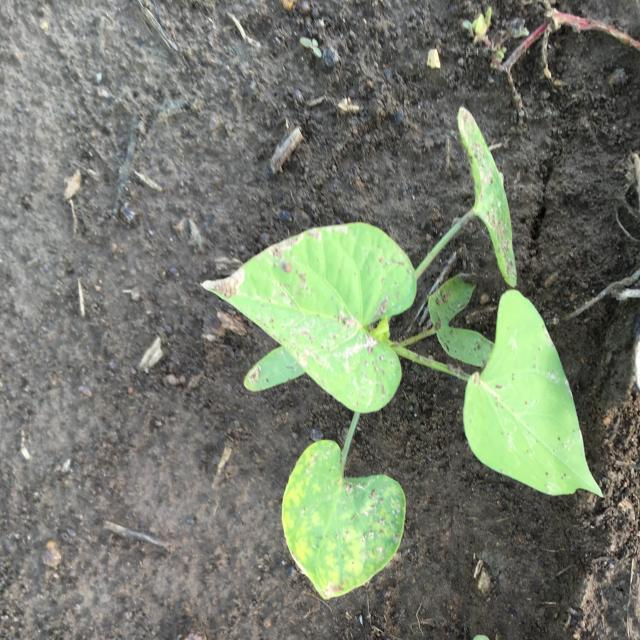MorningGlory: (202, 106, 606, 601)
